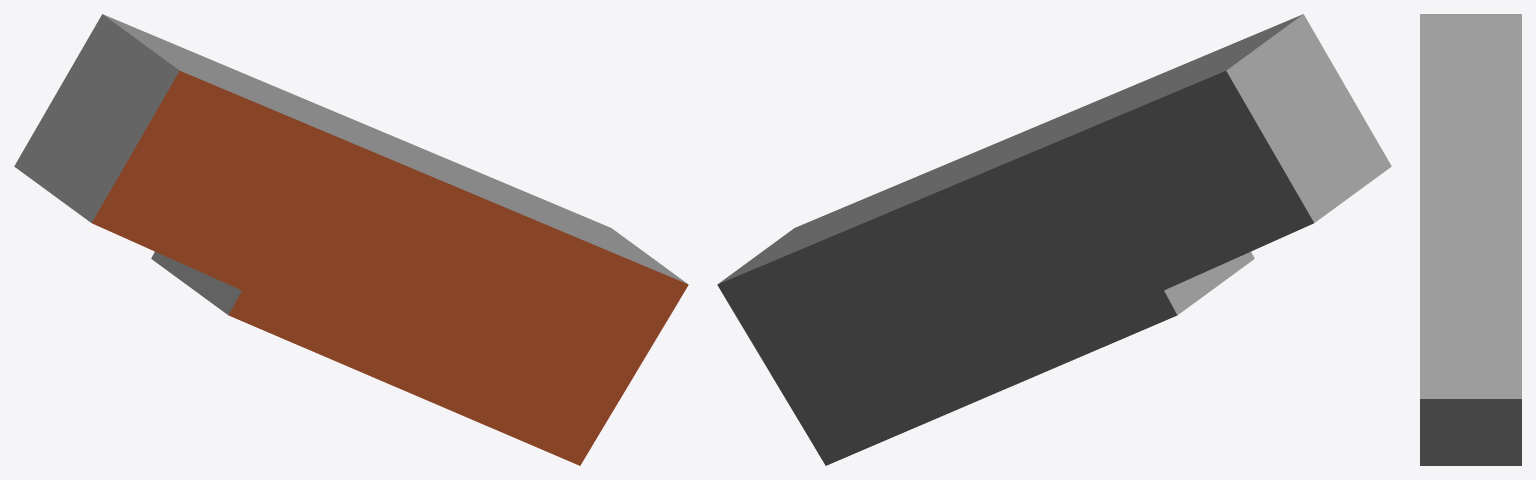
Rendered from construction_7272_assumed_A_Ruinas_h6m.obj.
The picture shows the model from 3 angles, left to right: view 1: azimuth 30°, elevation 25°; view 2: azimuth 150°, elevation 25°; view 3: azimuth 270°, elevation 25°; orthographic projection. The views are drawn at different scales.
Visible parts, largest first — view 1: construction_7272_assumed_A_Ruinas; view 2: construction_7272_assumed_A_Ruinas; view 3: construction_7272_assumed_A_Ruinas.
Boxes of the visible parts, x1,y1,x2,y2 form: construction_7272_assumed_A_Ruinas: [14, 14, 688, 465]; construction_7272_assumed_A_Ruinas: [717, 14, 1391, 465]; construction_7272_assumed_A_Ruinas: [1420, 14, 1521, 465].
Bounding box in the file's own units: 26.71 × 21.07 × 6.
